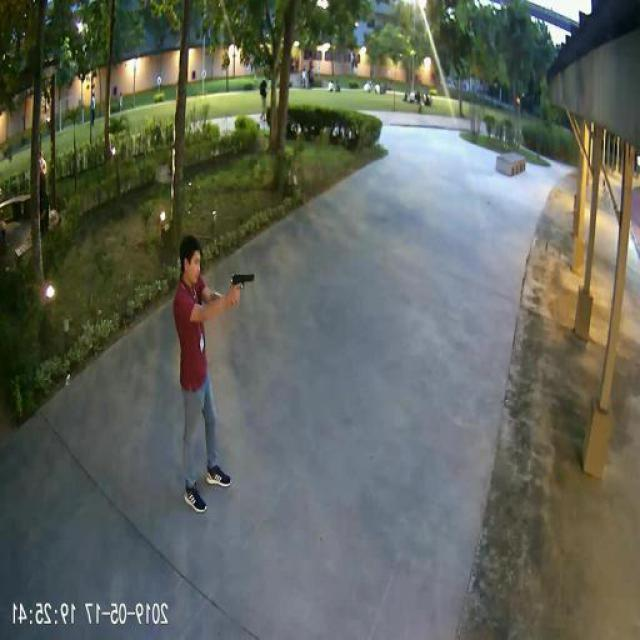weapon: (228, 274, 256, 304)
